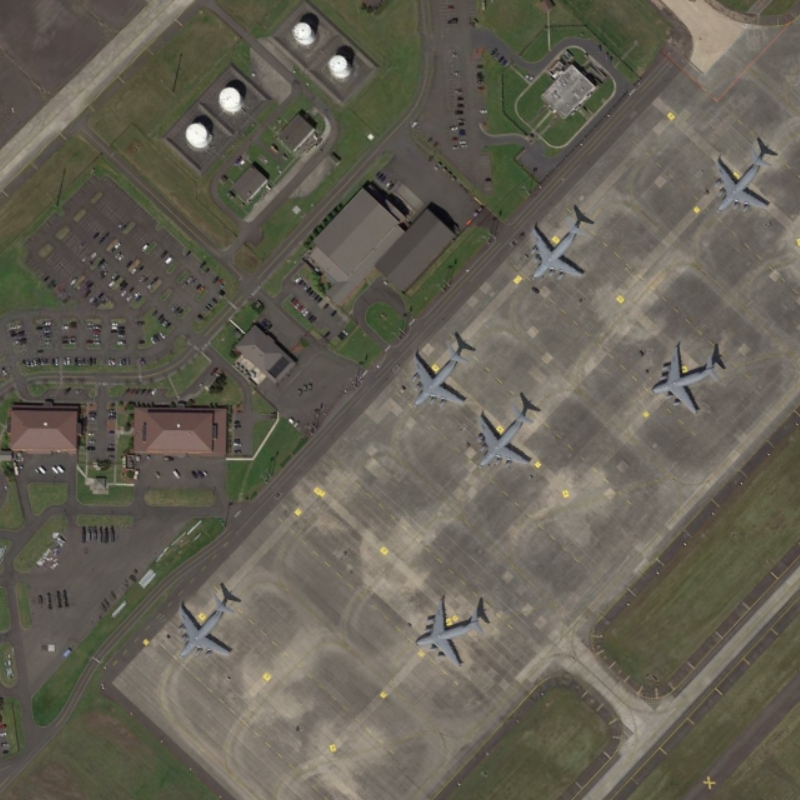A3: (649, 343, 729, 417), (413, 595, 486, 669), (711, 145, 778, 216), (525, 214, 591, 281), (176, 590, 236, 662), (473, 402, 536, 469), (407, 342, 470, 408)
